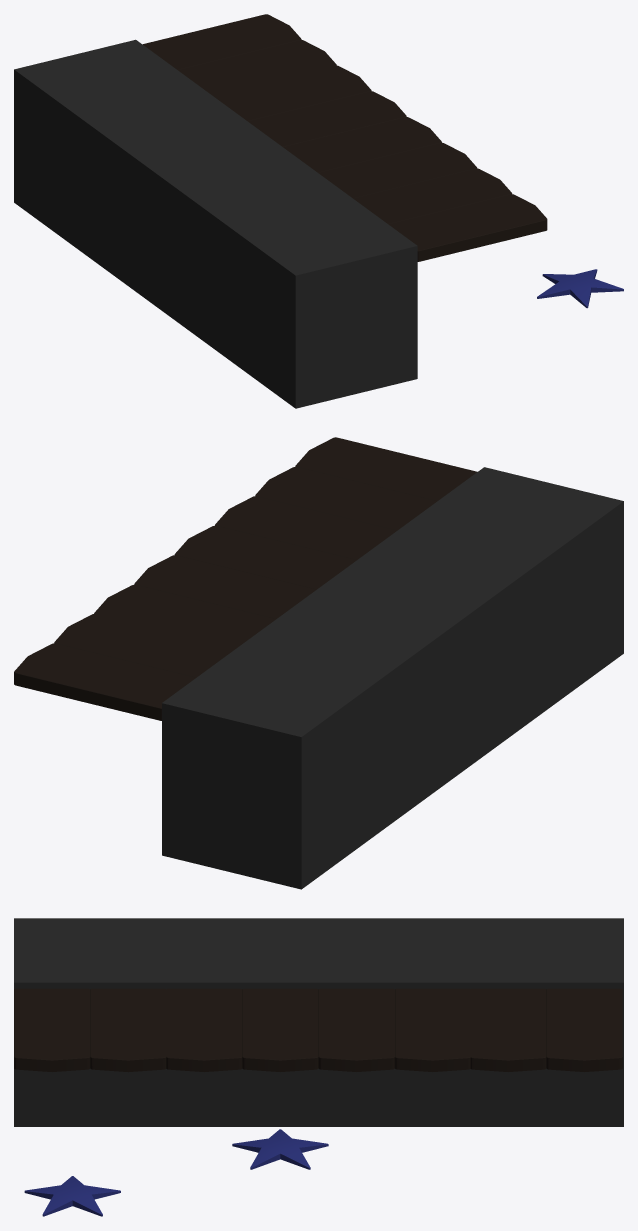
The model's file is OutdoorDockModels.obj.
3 renders of one model, top to bottom at view 1: azimuth 30°, elevation 25°; view 2: azimuth 150°, elevation 25°; view 3: azimuth 270°, elevation 25°, orthographic. The views are drawn at different scales.
Parts seen in each view (by area): view 1: ConcreteShellWall ConcreteShellWall, DockBoard01 BoardGroup Dock, Dock DockBoard01 BoardGroup2, BoardGroup Dock DockBoard12, Dock BoardGroup3 DockBoard12, Dock BoardGroup1 DockBoard12, Dock BoardGroup2 DockBoard12, Dock DockBoard01 BoardGroup1, Dock DockBoard01 BoardGroup3, SeaFloor StarFish01; view 2: ConcreteShellWall ConcreteShellWall, Dock BoardGroup3 DockBoard12, Dock BoardGroup1 DockBoard12, Dock DockBoard01 BoardGroup1, Dock DockBoard01 BoardGroup2, DockBoard01 BoardGroup Dock, Dock DockBoard01 BoardGroup3, BoardGroup Dock DockBoard12, Dock BoardGroup2 DockBoard12; view 3: ConcreteShellWall ConcreteShellWall, BoardGroup Dock DockBoard12, Dock DockBoard01 BoardGroup1, Dock DockBoard01 BoardGroup2, Dock DockBoard01 BoardGroup3, Dock BoardGroup1 DockBoard12, Dock BoardGroup3 DockBoard12, DockBoard01 BoardGroup Dock, Dock BoardGroup2 DockBoard12, StarFish02 SeaFloor, SeaFloor StarFish01.
Boxes of the visible parts, x1=… form: ConcreteShellWall ConcreteShellWall: x1=14, y1=39, x2=417, y2=408; DockBoard01 BoardGroup Dock: x1=388, y1=194, x2=547, y2=261; Dock DockBoard01 BoardGroup2: x1=248, y1=91, x2=406, y2=146; BoardGroup Dock DockBoard12: x1=353, y1=168, x2=512, y2=224; Dock BoardGroup3 DockBoard12: x1=143, y1=14, x2=301, y2=69; Dock BoardGroup1 DockBoard12: x1=283, y1=117, x2=441, y2=172; Dock BoardGroup2 DockBoard12: x1=212, y1=65, x2=371, y2=121; Dock DockBoard01 BoardGroup1: x1=318, y1=142, x2=476, y2=198; Dock DockBoard01 BoardGroup3: x1=178, y1=40, x2=336, y2=95; SeaFloor StarFish01: x1=537, y1=269, x2=623, y2=308; ConcreteShellWall ConcreteShellWall: x1=162, y1=467, x2=623, y2=889; Dock BoardGroup3 DockBoard12: x1=14, y1=643, x2=195, y2=720; Dock BoardGroup1 DockBoard12: x1=174, y1=525, x2=356, y2=589; Dock DockBoard01 BoardGroup1: x1=215, y1=496, x2=396, y2=559; Dock DockBoard01 BoardGroup2: x1=134, y1=555, x2=316, y2=618; DockBoard01 BoardGroup Dock: x1=295, y1=437, x2=477, y2=501; Dock DockBoard01 BoardGroup3: x1=54, y1=614, x2=236, y2=677; BoardGroup Dock DockBoard12: x1=255, y1=467, x2=436, y2=530; Dock BoardGroup2 DockBoard12: x1=94, y1=584, x2=275, y2=648; ConcreteShellWall ConcreteShellWall: x1=14, y1=918, x2=623, y2=1126; BoardGroup Dock DockBoard12: x1=90, y1=988, x2=166, y2=1072; Dock DockBoard01 BoardGroup1: x1=166, y1=988, x2=242, y2=1071; Dock DockBoard01 BoardGroup2: x1=318, y1=988, x2=394, y2=1071; Dock DockBoard01 BoardGroup3: x1=470, y1=988, x2=546, y2=1071; Dock BoardGroup1 DockBoard12: x1=242, y1=988, x2=318, y2=1071; Dock BoardGroup3 DockBoard12: x1=546, y1=988, x2=622, y2=1071; DockBoard01 BoardGroup Dock: x1=14, y1=988, x2=90, y2=1071; Dock BoardGroup2 DockBoard12: x1=395, y1=988, x2=470, y2=1071; StarFish02 SeaFloor: x1=232, y1=1129, x2=328, y2=1169; SeaFloor StarFish01: x1=24, y1=1176, x2=120, y2=1216.
Bounding box in the file's own units: 5.61 × 2.09 × 8.
